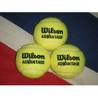tennis ball: (15, 42, 50, 78), (51, 44, 87, 78), (34, 16, 68, 50)
